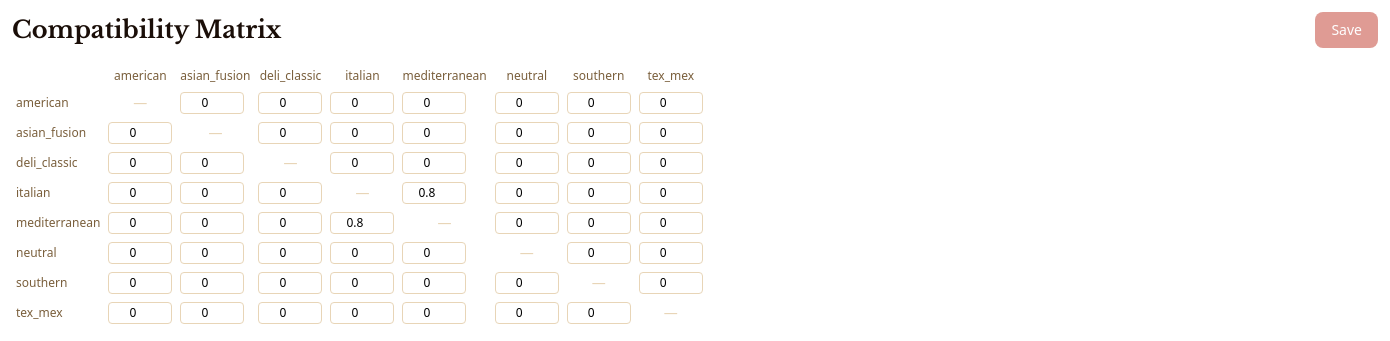
Test: CompatMatrixPage › auto-mirrors an edit to the reverse pair
Replace the text in the number field named "italian to mediterranean affinity" with "0.5" at (434, 193), box [402,182,466,204]
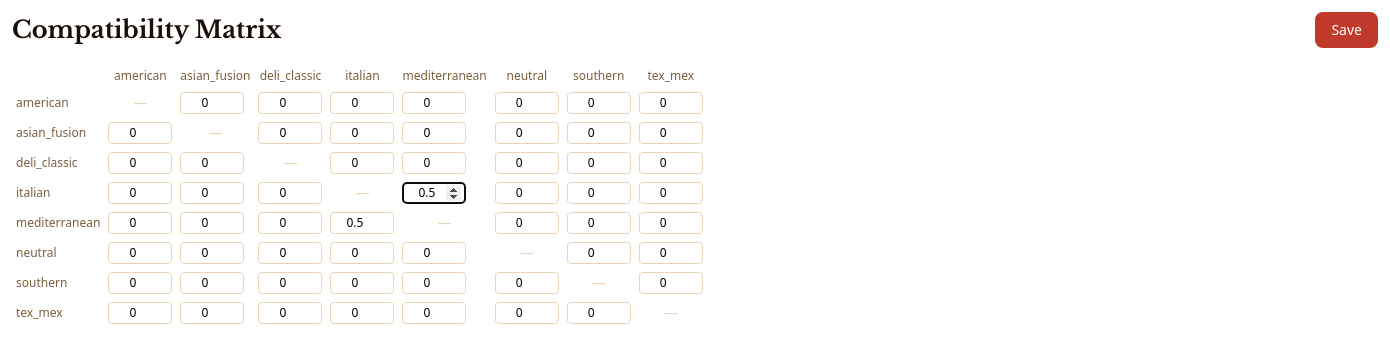
Expected: the number field named "mediterranean to italian affinity" holds "0.5", [330,212,394,234]
